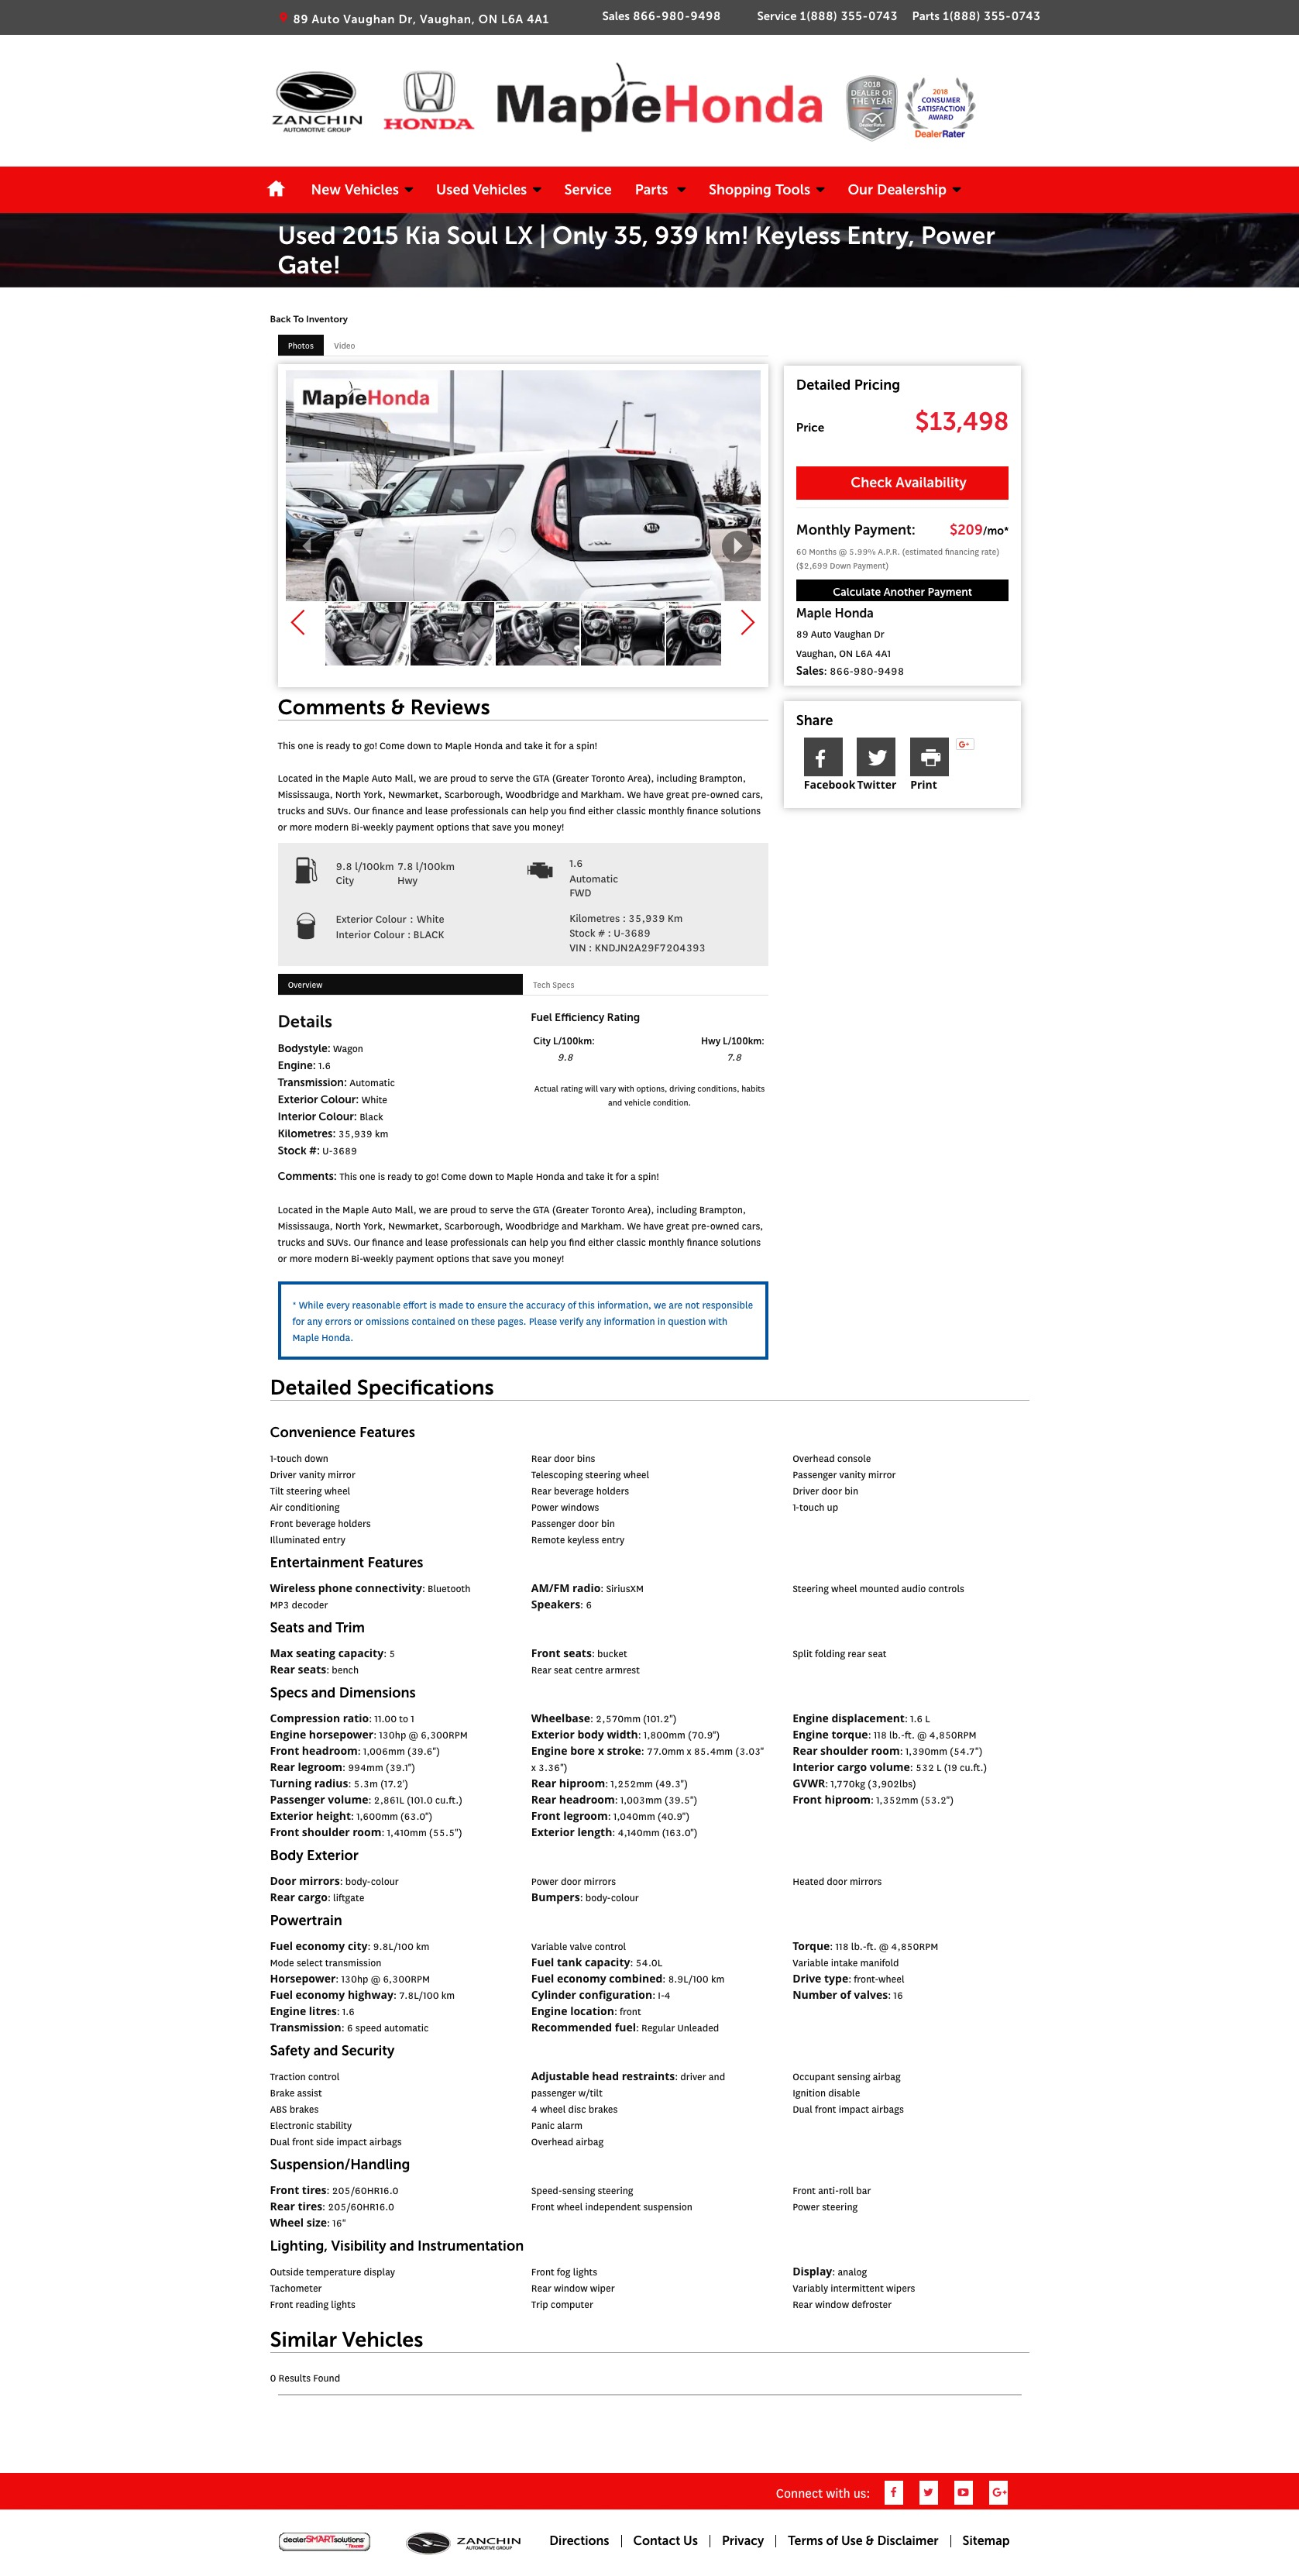car: (741, 610, 756, 636)
